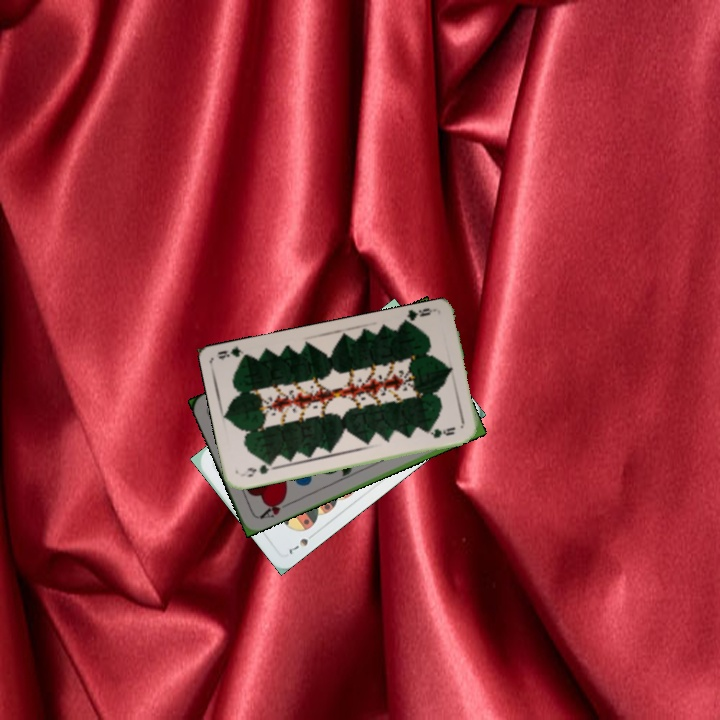G9: (399, 304, 438, 327), (243, 459, 278, 480)
HA: (255, 494, 293, 521)
S7: (285, 528, 319, 556)
